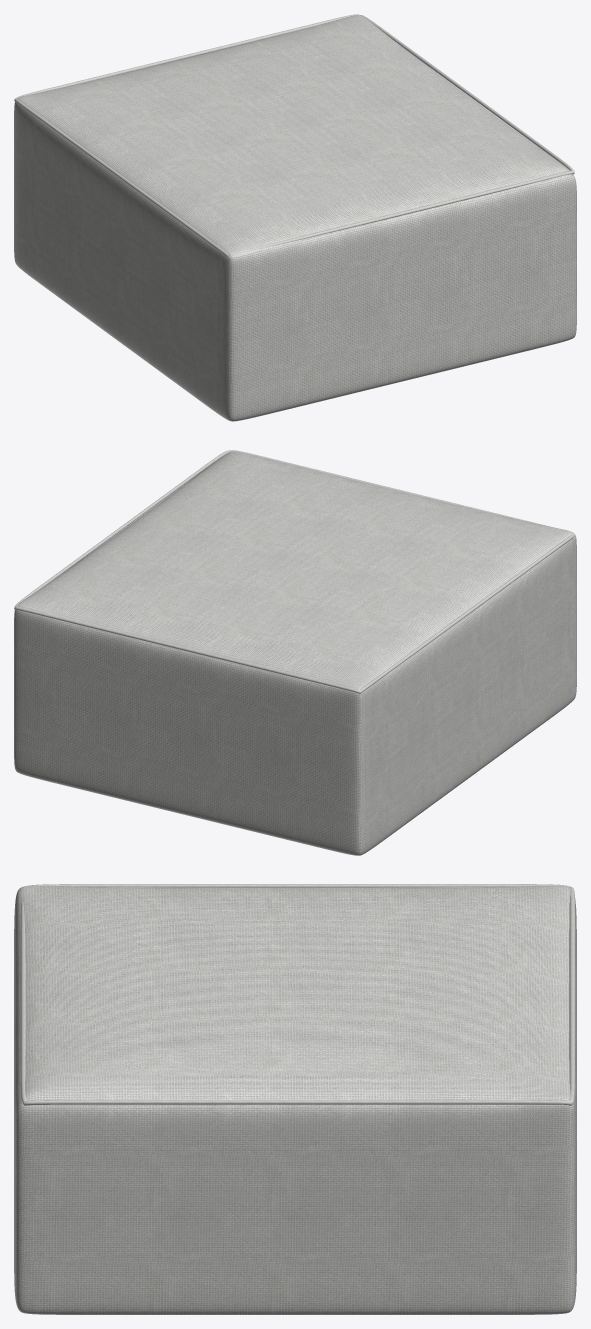
Rendered from pouff.glb.
3 renders of one model, top to bottom at view 1: azimuth 30°, elevation 25°; view 2: azimuth 150°, elevation 25°; view 3: azimuth 270°, elevation 25°, orthographic. The views are drawn at different scales.
Parts seen in each view (by area): view 1: object 1, D=~ 0,01 m; view 2: object 1, D=~ 0,01 m; view 3: object 1, D=~ 0,01 m.
Part boxes in pixels (x1,y1,x2,y2): object 1: [14, 15, 576, 421]; D=~ 0,01 m: [14, 14, 574, 256]; object 1: [14, 451, 576, 855]; D=~ 0,01 m: [14, 450, 574, 693]; object 1: [14, 885, 576, 1314]; D=~ 0,01 m: [20, 884, 575, 1105].
Size of the model in its own units: 0.8793 by 0.4284 by 0.954.
Materials: 1 (1 with a texture image).
